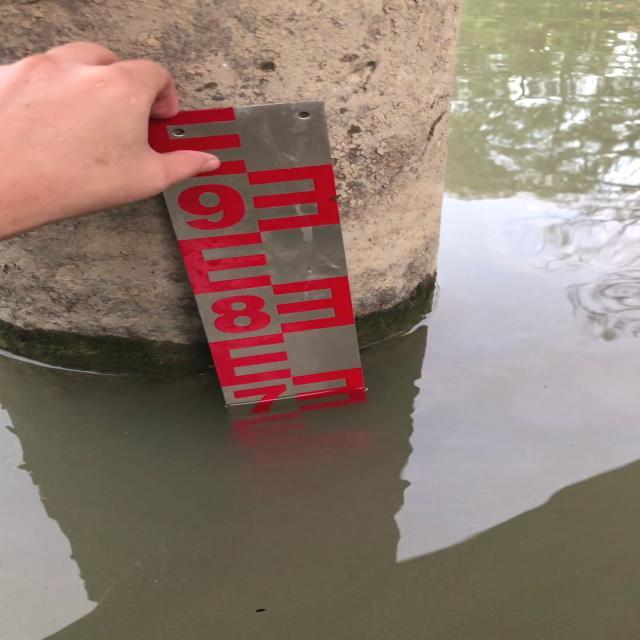ruler: (139, 92, 375, 405)
value: (162, 175, 258, 241), (194, 287, 284, 342)
